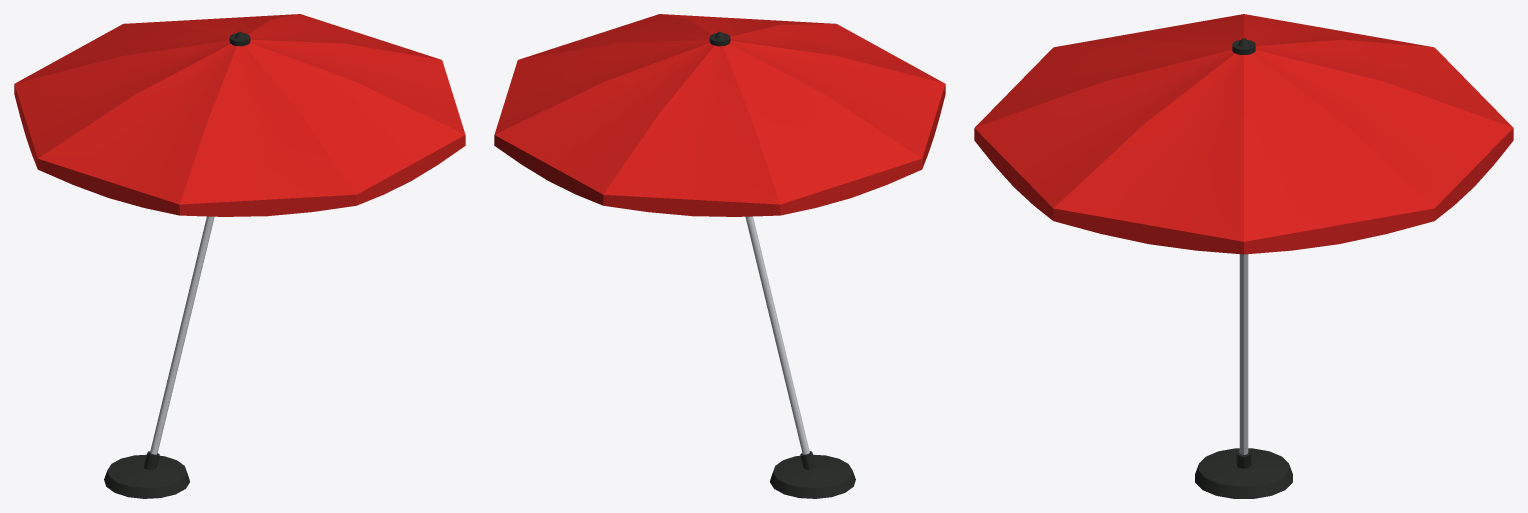
File: sombrilla.glb
The picture shows the model from 3 angles, left to right: view 1: azimuth 30°, elevation 25°; view 2: azimuth 150°, elevation 25°; view 3: azimuth 270°, elevation 25°; orthographic projection. The views are drawn at different scales.
Parts seen in each view (by area): view 1: pieza_pano, sombrilla_cuerpo; view 2: pieza_pano, sombrilla_cuerpo; view 3: pieza_pano, sombrilla_cuerpo.
Part boxes in pixels (x1,y1,x2,y2): pieza_pano: (14,14,465,216); sombrilla_cuerpo: (104,31,250,498); pieza_pano: (494,14,945,216); sombrilla_cuerpo: (709,31,855,498); pieza_pano: (974,14,1513,254); sombrilla_cuerpo: (1195,38,1292,498).
Size of what is drawn, in the model's own units: 2.7 by 2.72 by 2.7.
